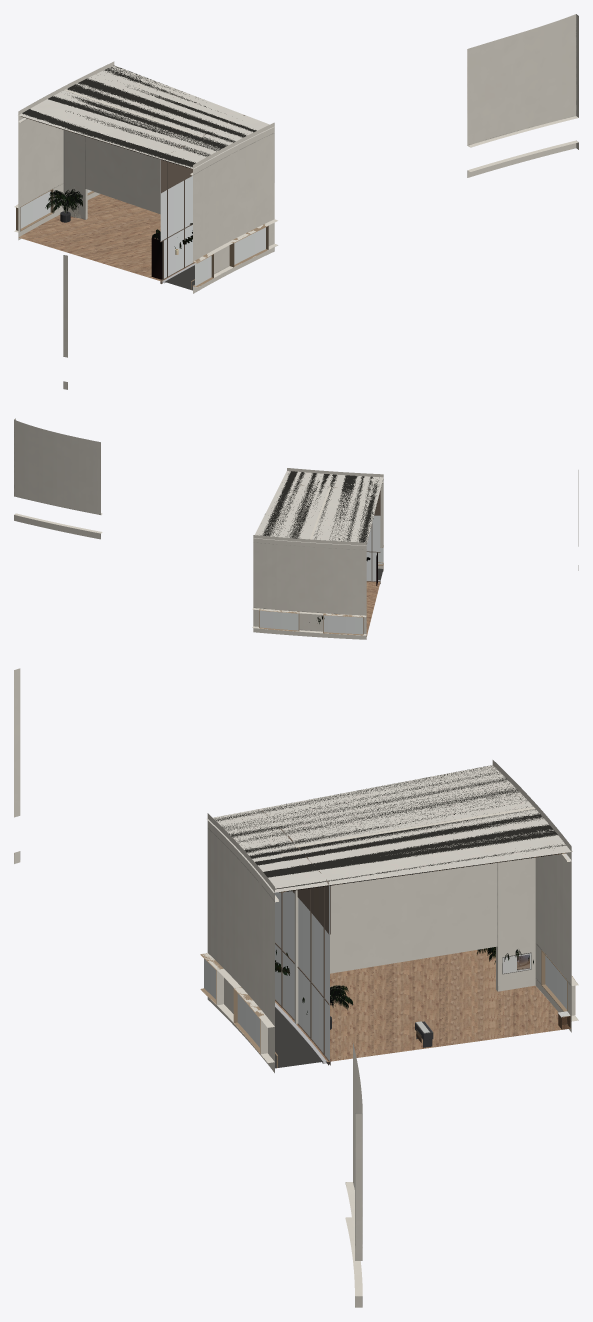
The picture shows the model from 3 angles, top to bottom: view 1: azimuth 30°, elevation 25°; view 2: azimuth 150°, elevation 25°; view 3: azimuth 270°, elevation 25°; orthographic projection. The views are drawn at different scales.
Visible parts, largest first — view 1: c3360, c3360 leaves; view 2: c3360; view 3: c3360, c3360 leaves.
Boxes of the visible parts, left/top/right/bottom form: c3360: left=14, top=14, right=578, bottom=389; c3360 leaves: left=21, top=116, right=192, bottom=279; c3360: left=14, top=418, right=578, bottom=639; c3360: left=14, top=668, right=578, bottom=1307; c3360 leaves: left=275, top=852, right=565, bottom=1014.
Size of the model in its own units: 67.6 by 13.73 by 36.24.
10 materials, 1 textured.
